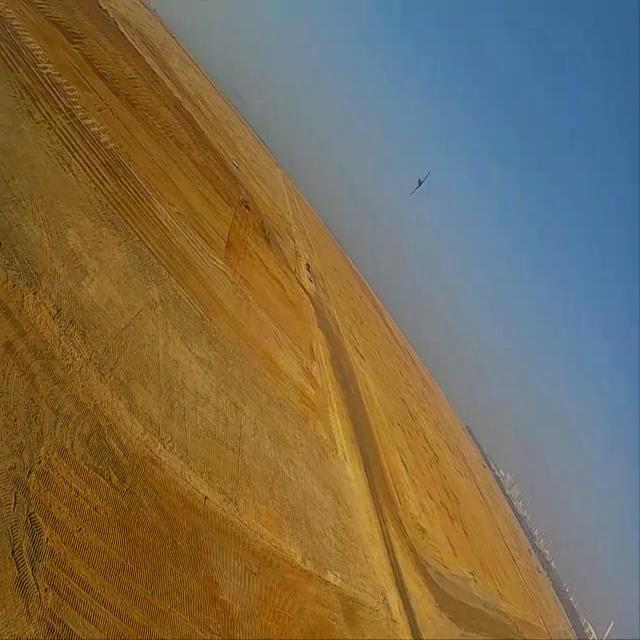iha: (405, 164, 443, 201)
